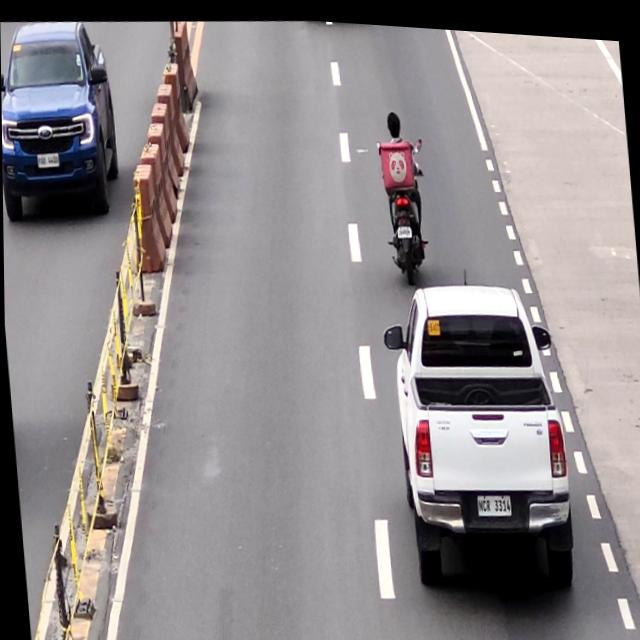Car: (377, 267, 578, 596)
License-Plate: (475, 484, 511, 513), (396, 218, 412, 233)
Motorcycle: (375, 128, 432, 275)
